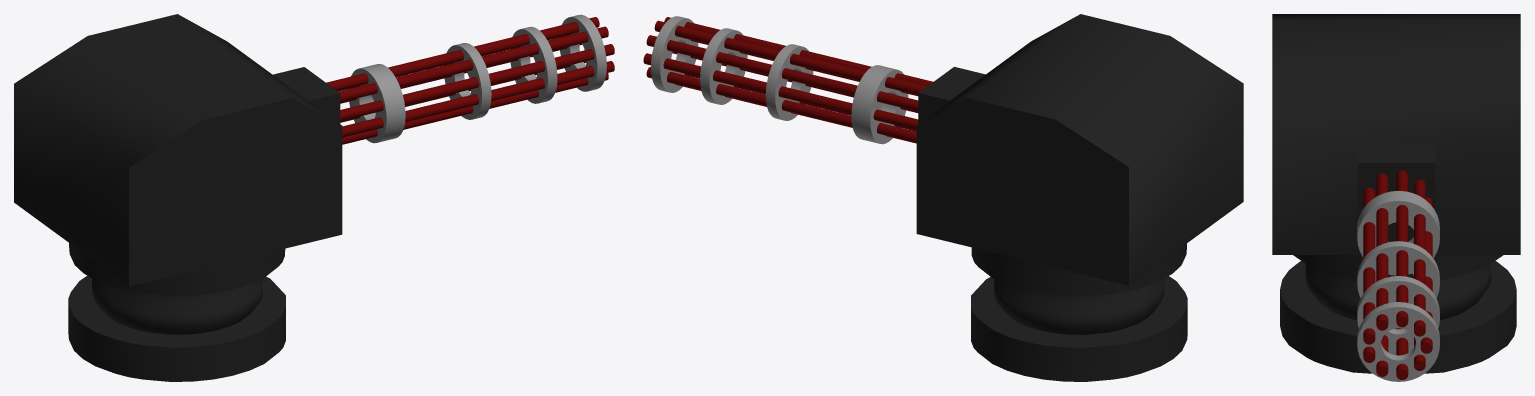
The model's file is LandTower.fbx.
The picture shows the model from 3 angles, left to right: view 1: azimuth 30°, elevation 25°; view 2: azimuth 150°, elevation 25°; view 3: azimuth 270°, elevation 25°; orthographic projection. The views are drawn at different scales.
Visible parts, largest first — view 1: Head_1, Body, Minigun_1; view 2: Head_1, Body, Minigun_1; view 3: Head_1, Body, Minigun_1.
Part boxes in pixels (x1,y1,x2,y2): Head_1: (14, 14, 342, 286); Body: (68, 243, 285, 381); Minigun_1: (326, 14, 614, 144); Head_1: (916, 14, 1243, 285); Body: (971, 243, 1187, 381); Minigun_1: (643, 16, 933, 144); Head_1: (1272, 14, 1520, 254); Body: (1280, 255, 1516, 373); Minigun_1: (1357, 170, 1439, 381).
Bounding box in the file's own units: 111 × 53.77 × 42.
